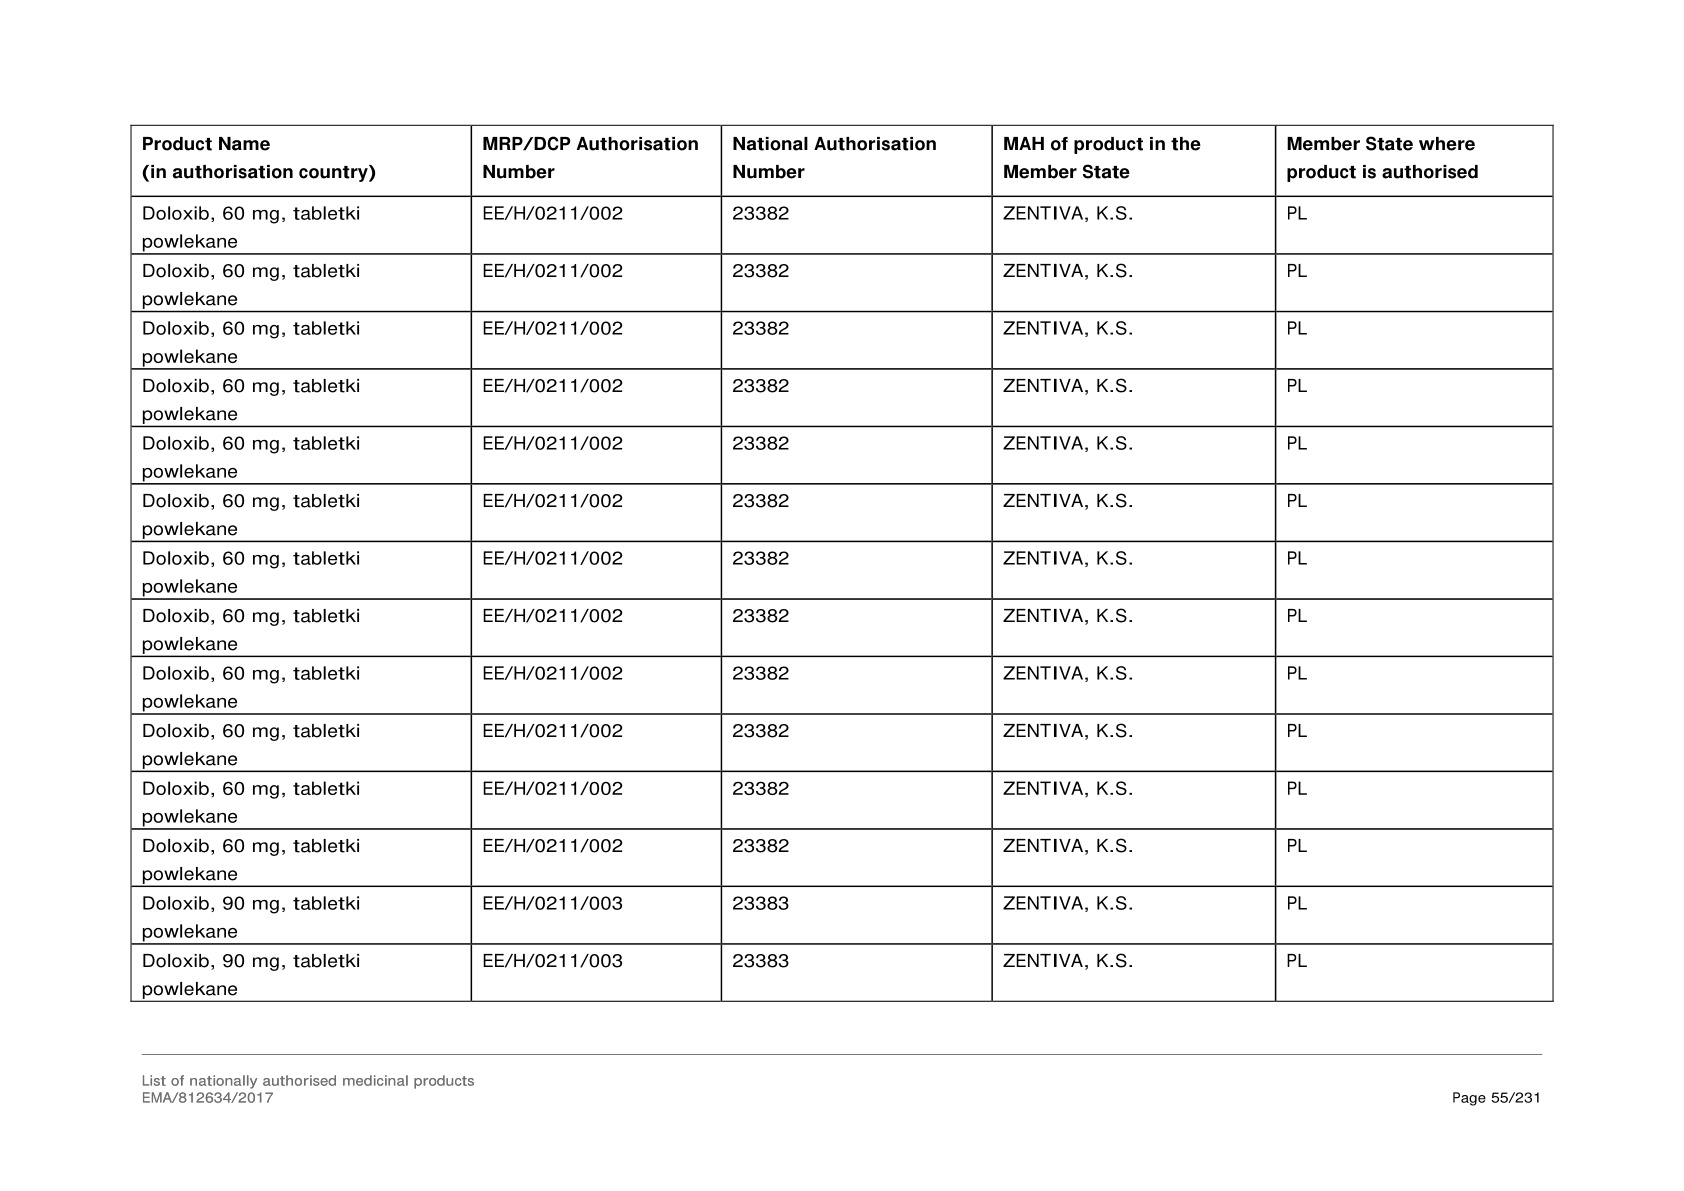full_lined: (129, 124, 1555, 1005)
